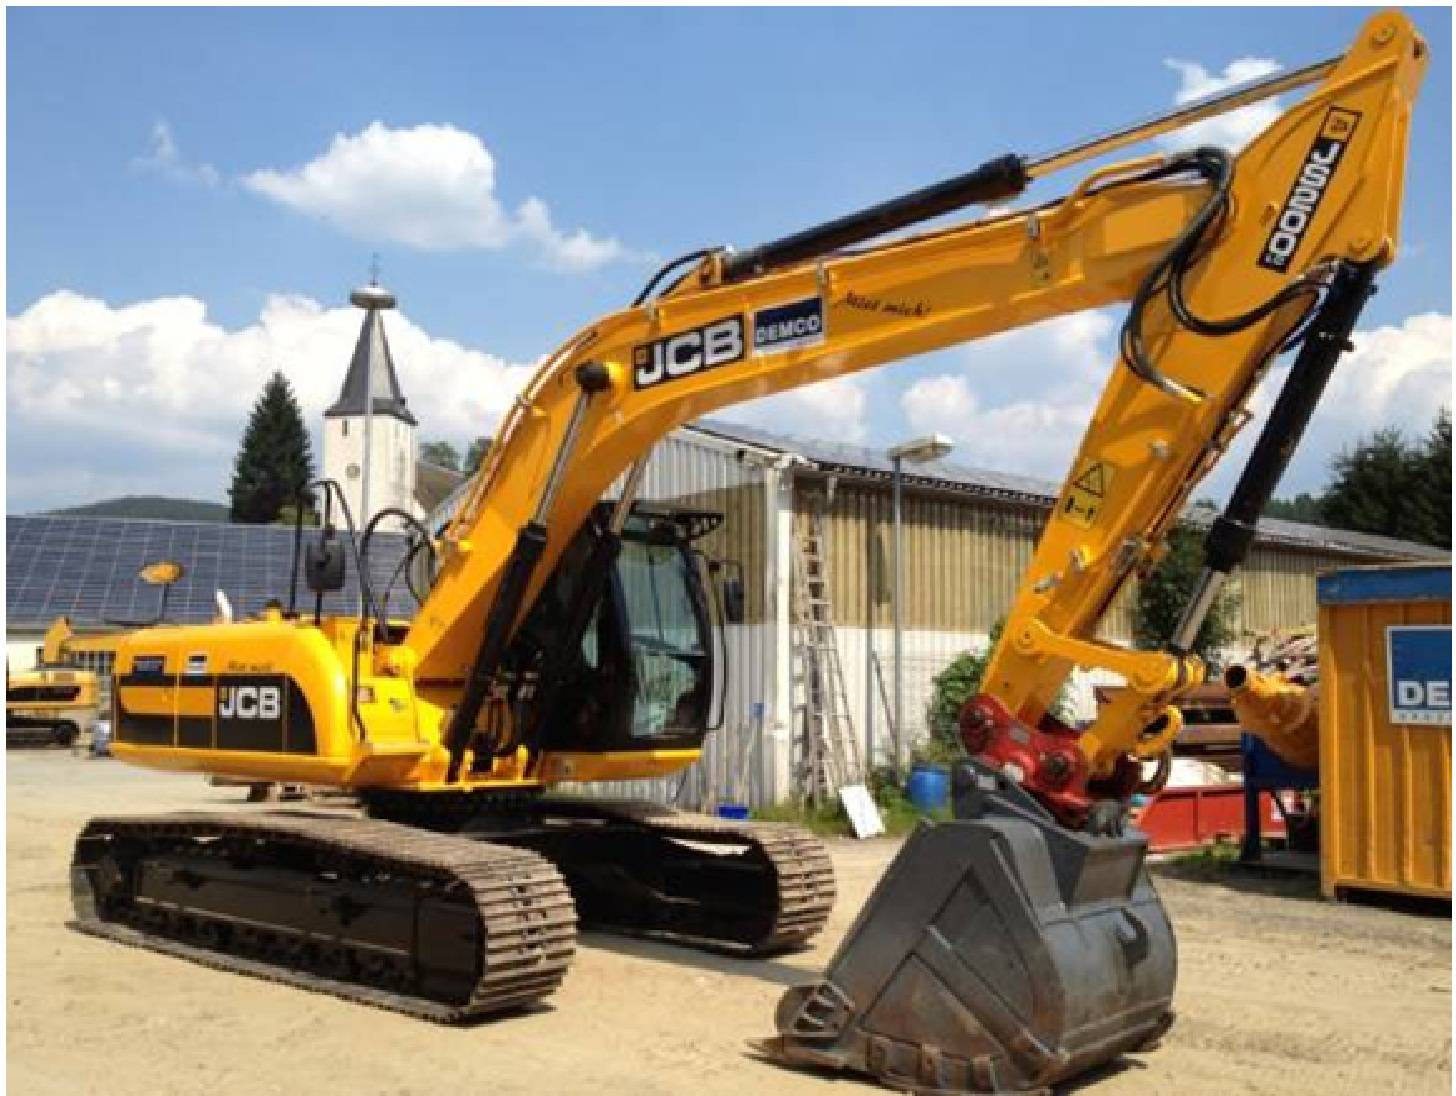backhoe: (83, 16, 1415, 1084)
